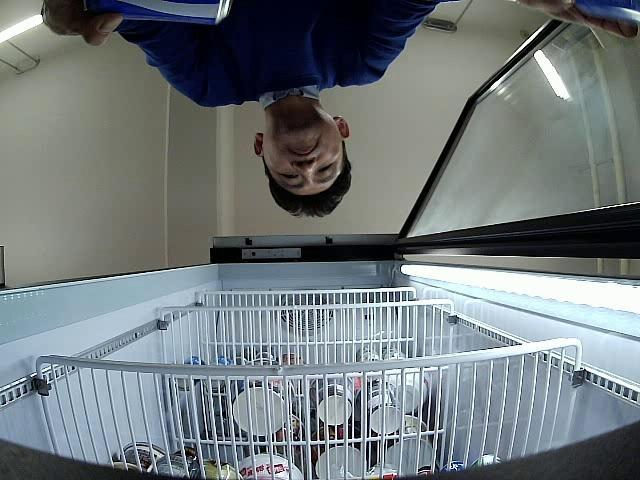13_pocariSweat: (101, 0, 232, 25)
